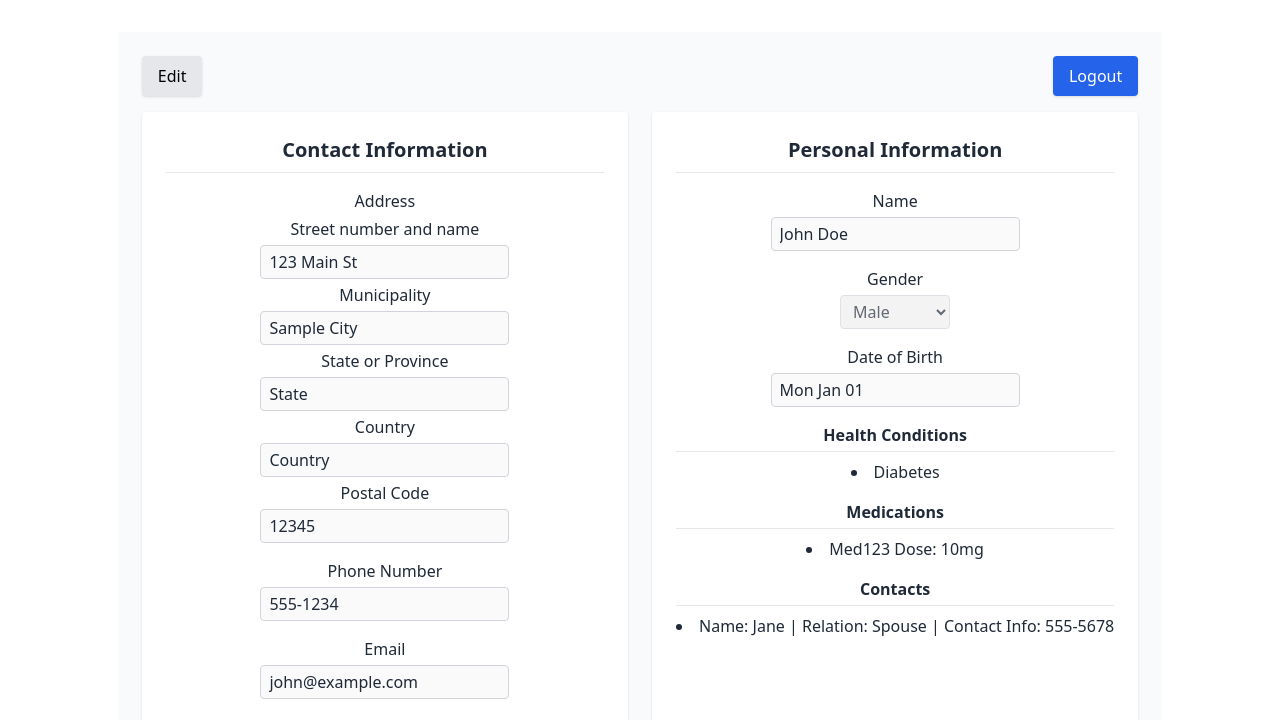
Test case: Home Component › Editing and Saving › allows editing, saving, and resetting data
The width and height of the screenshot is (1280, 720).
Check: the heading "Contact Information" is shown, box top-left (166, 136), bottom-right (604, 173)
Check: the 2nd field showing "123 Main St" is shown, box top-left (260, 245), bottom-right (509, 279)
Enter edit mode
Click the button "Edit" at (172, 76), box top-left (142, 56), bottom-right (202, 96)
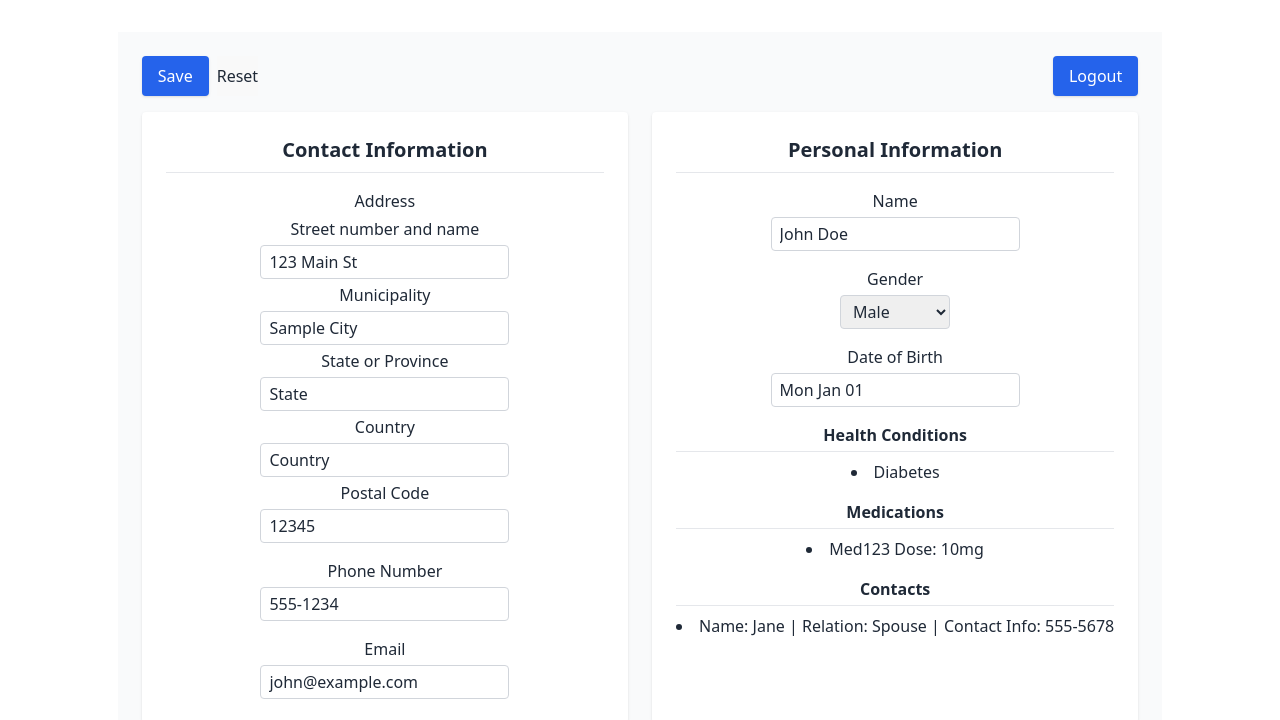
Check: the button "Save" is shown, box top-left (142, 56), bottom-right (209, 96)
Make a change
Replace the text in the 2nd field showing "123 Main St" with "456 Elm St" at (385, 262), box top-left (260, 245), bottom-right (509, 279)
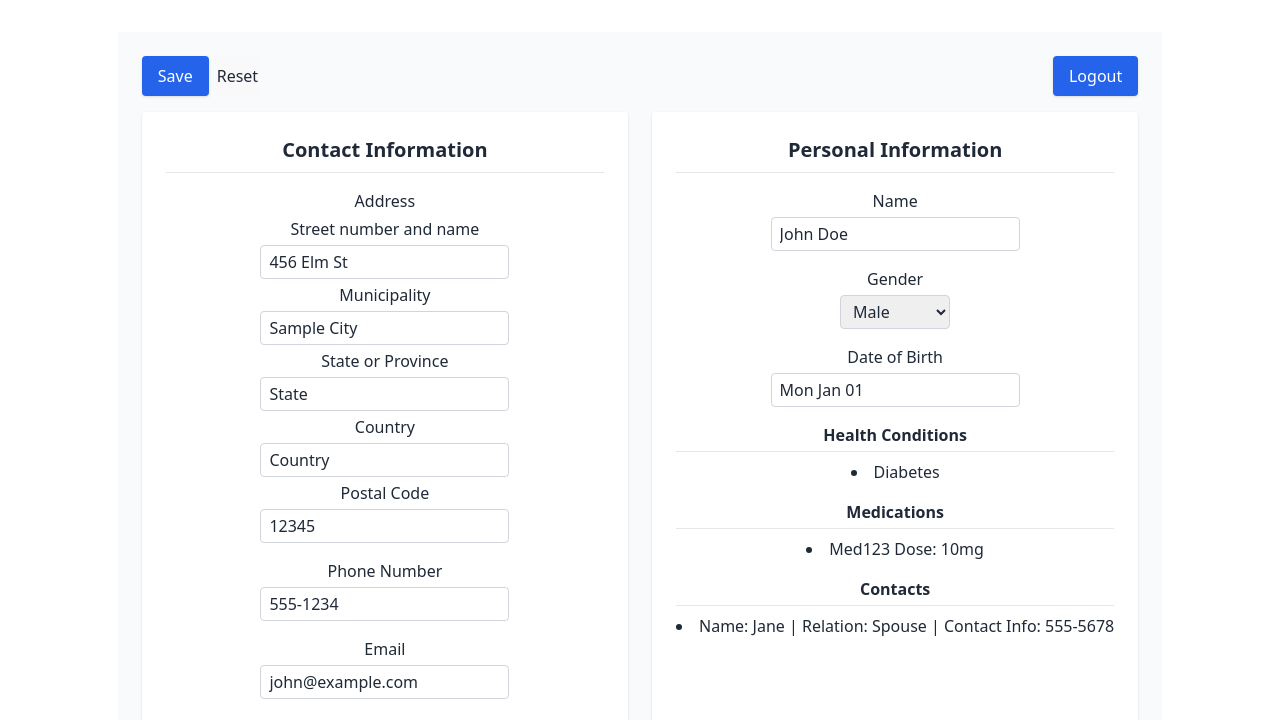
Reset changes
Click the button "Reset" at (237, 76), box top-left (217, 56), bottom-right (258, 96)
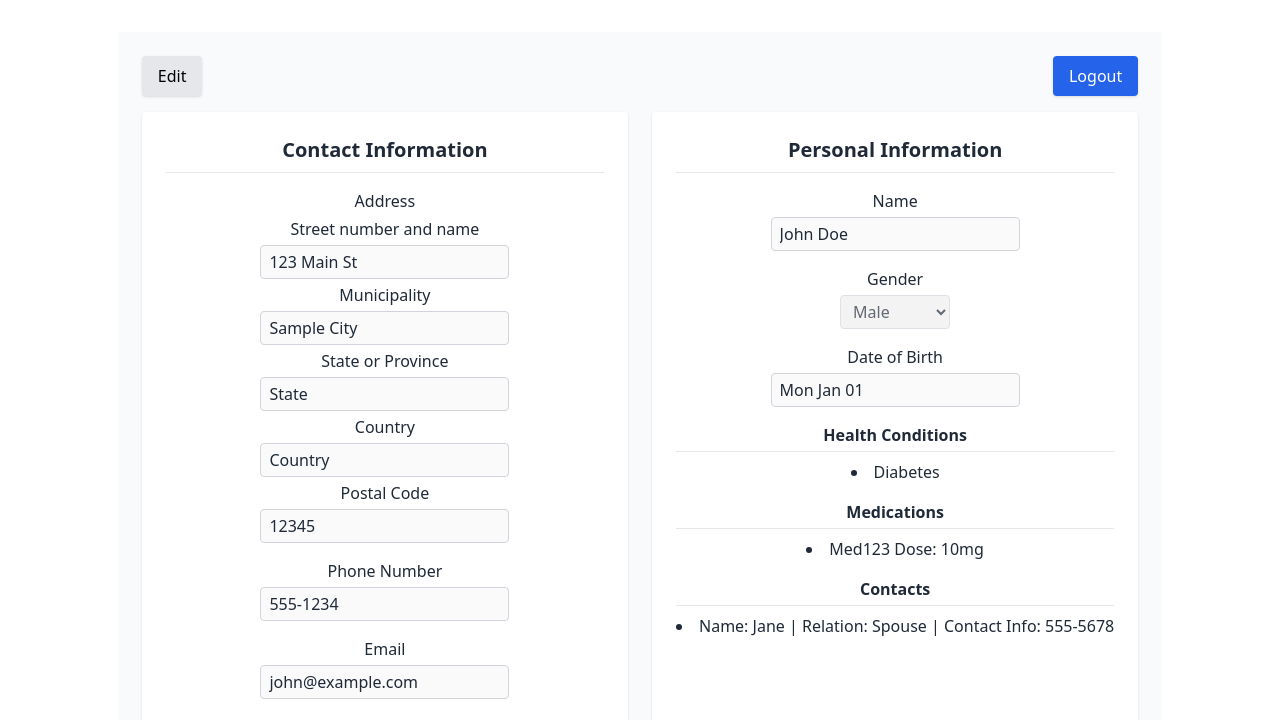
Check: the 2nd field showing "123 Main St" is shown, box top-left (260, 245), bottom-right (509, 279)
Re-enter edit mode
Click the button "Edit" at (172, 76), box top-left (142, 56), bottom-right (202, 96)
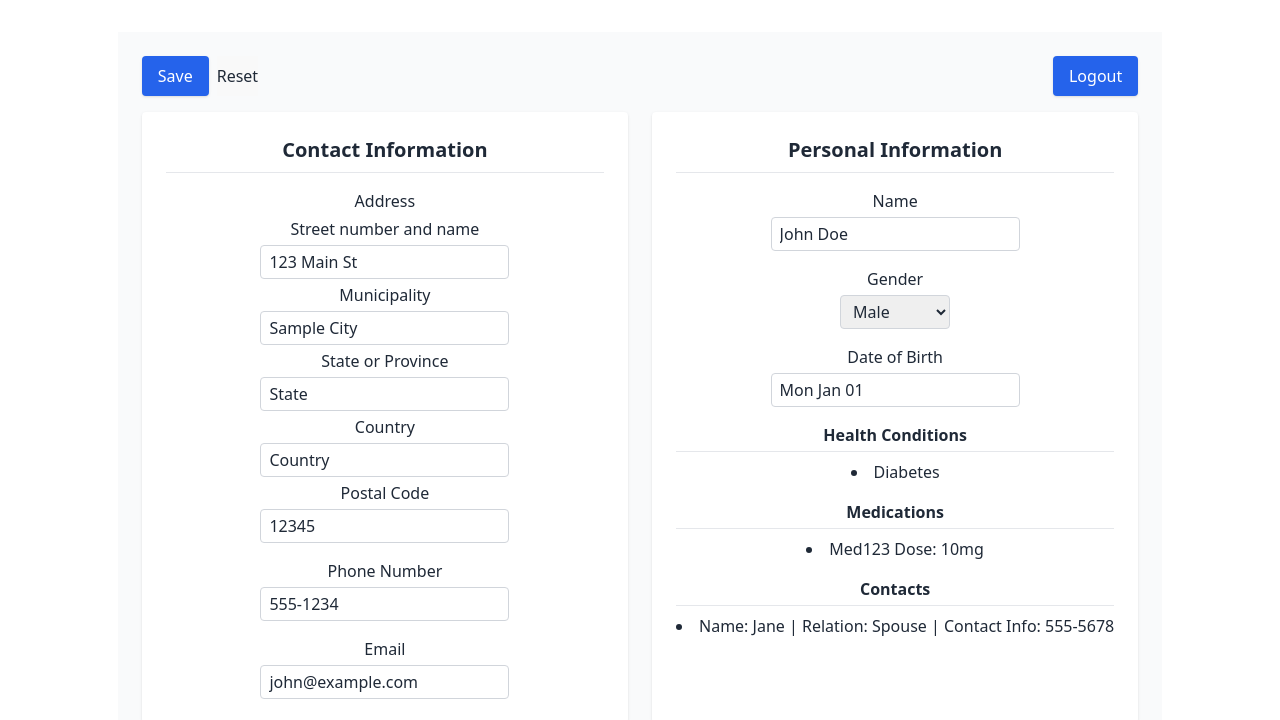
Check: the button "Save" is shown, box top-left (142, 56), bottom-right (209, 96)
Make a change again
Replace the text in the 2nd field showing "123 Main St" with "456 Elm St" at (385, 262), box top-left (260, 245), bottom-right (509, 279)
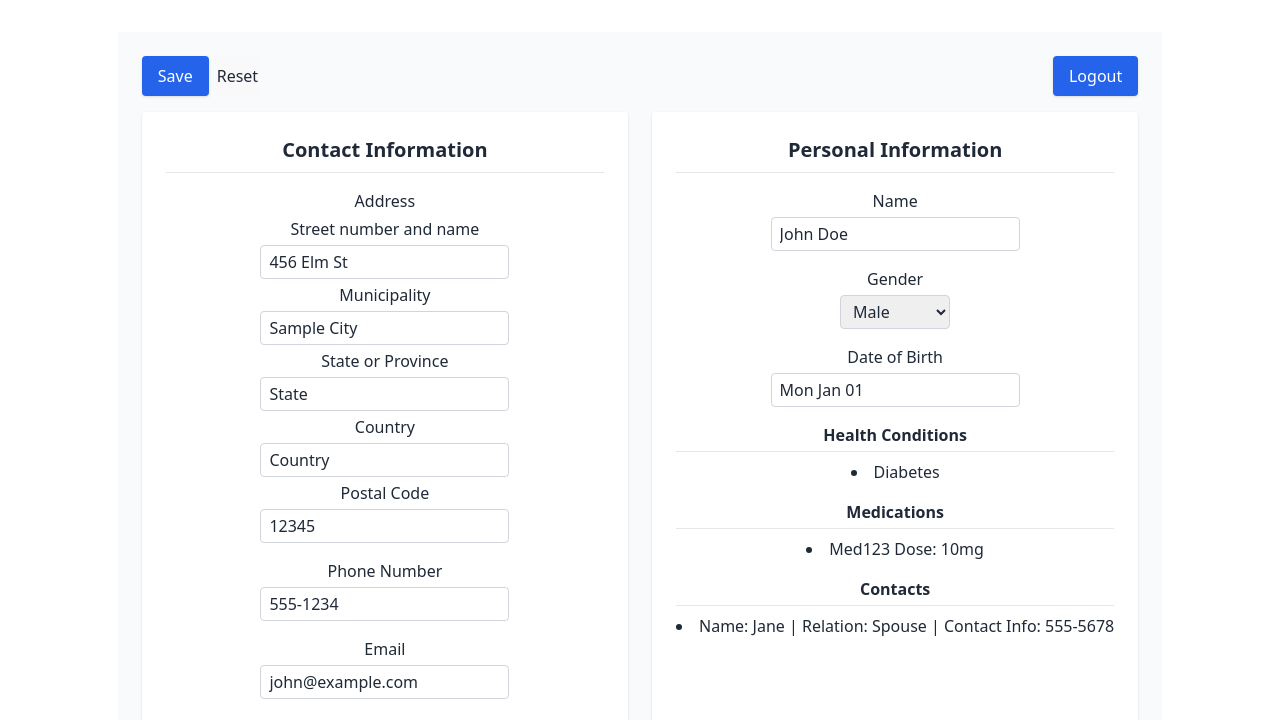
Save changes
Click the button "Save" at (175, 76), box top-left (142, 56), bottom-right (209, 96)
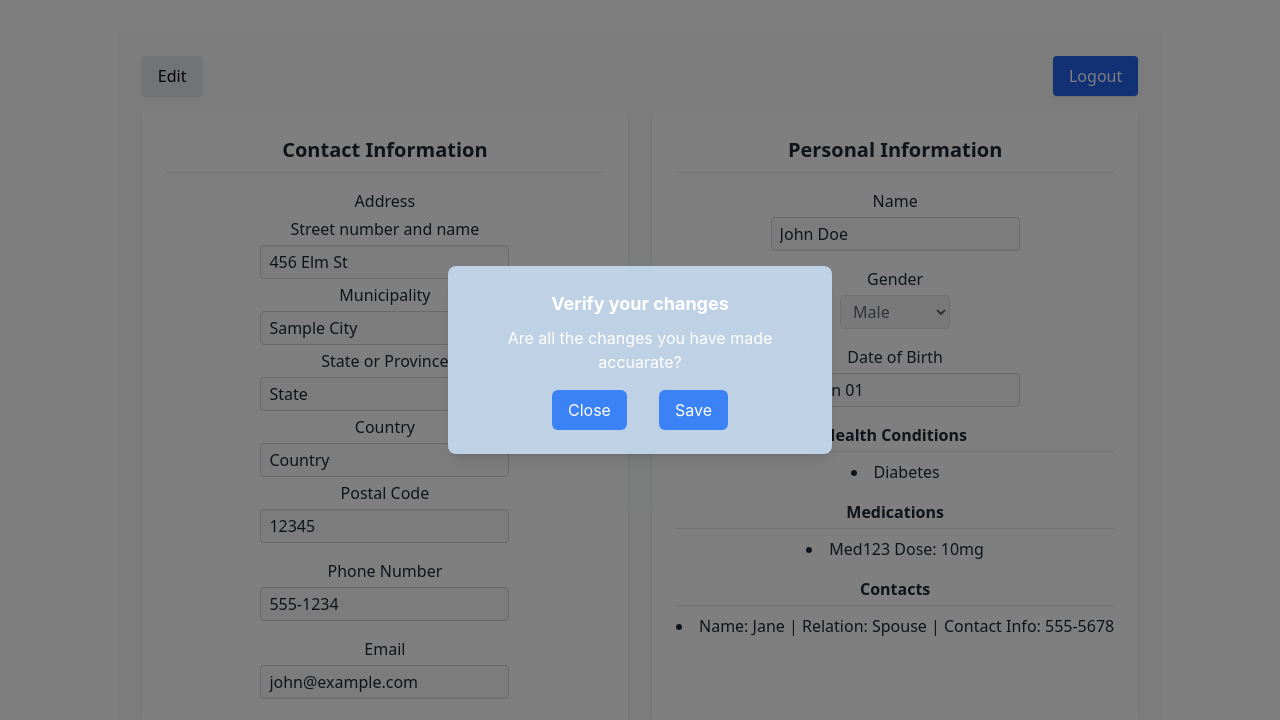
Check: the button "Edit" is shown, box top-left (142, 56), bottom-right (202, 96)
